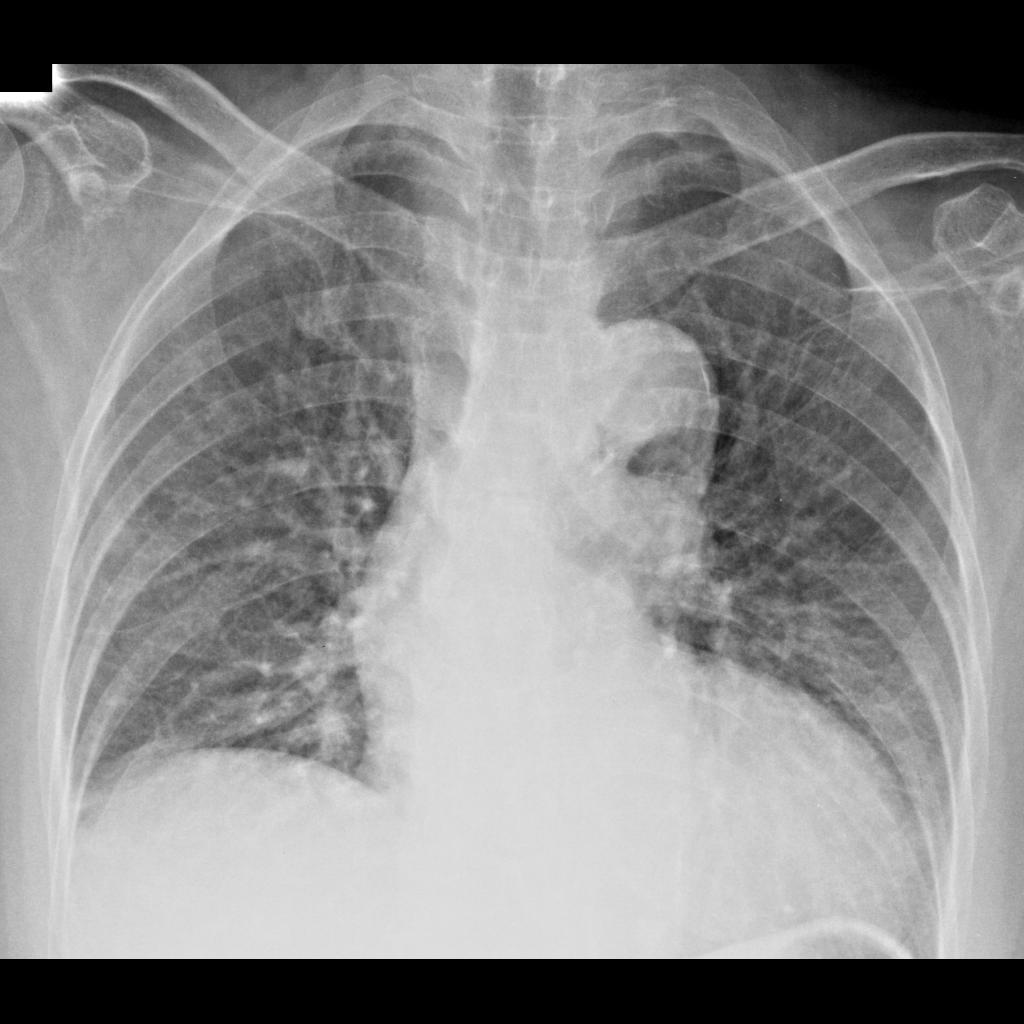Nodule: (90, 514, 132, 556)
